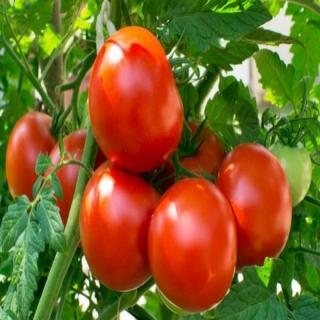Tomat: (88, 25, 185, 173), (148, 177, 238, 315), (79, 160, 161, 293), (217, 142, 293, 269), (43, 129, 107, 230), (6, 111, 60, 205), (266, 118, 313, 208), (172, 119, 227, 185)
